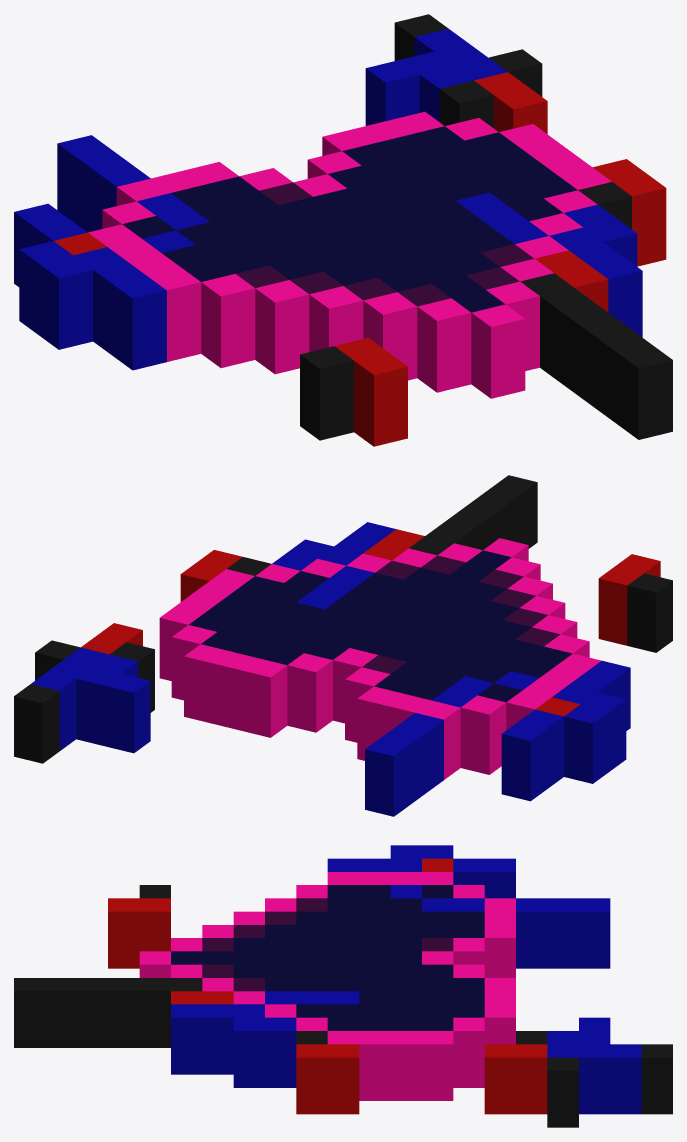
File: Heart2.obj
The picture shows the model from 3 angles, top to bottom: view 1: azimuth 30°, elevation 25°; view 2: azimuth 150°, elevation 25°; view 3: azimuth 270°, elevation 25°; orthographic projection. The views are drawn at different scales.
Bounding box in the file's own units: 1.7 × 0.2 × 2.1.
Materials: 1 (1 with a texture image).
